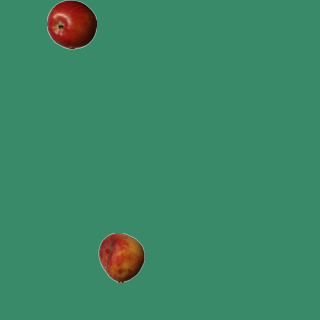Apple Braeburn: (46, 0, 96, 49)
Peach: (96, 232, 146, 282)
